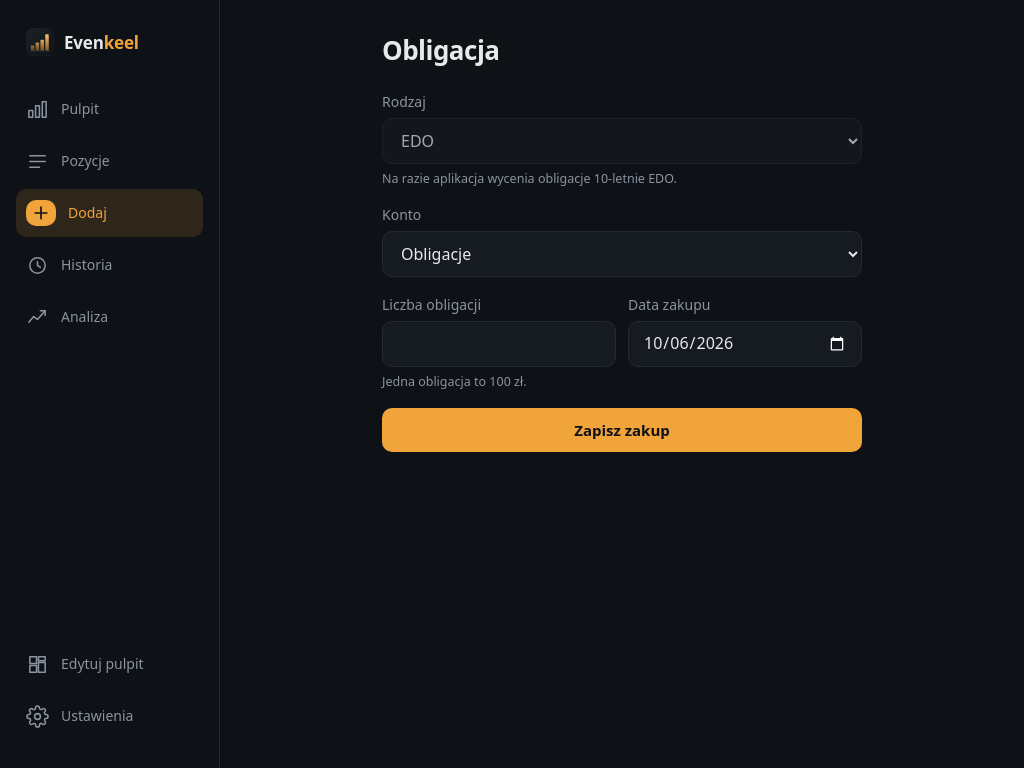
Test: bond purchase form › wants a whole number of bonds
In the field labelled "Liczba obligacji": x=499, y=344 [382,321,616,367], type "2,5"
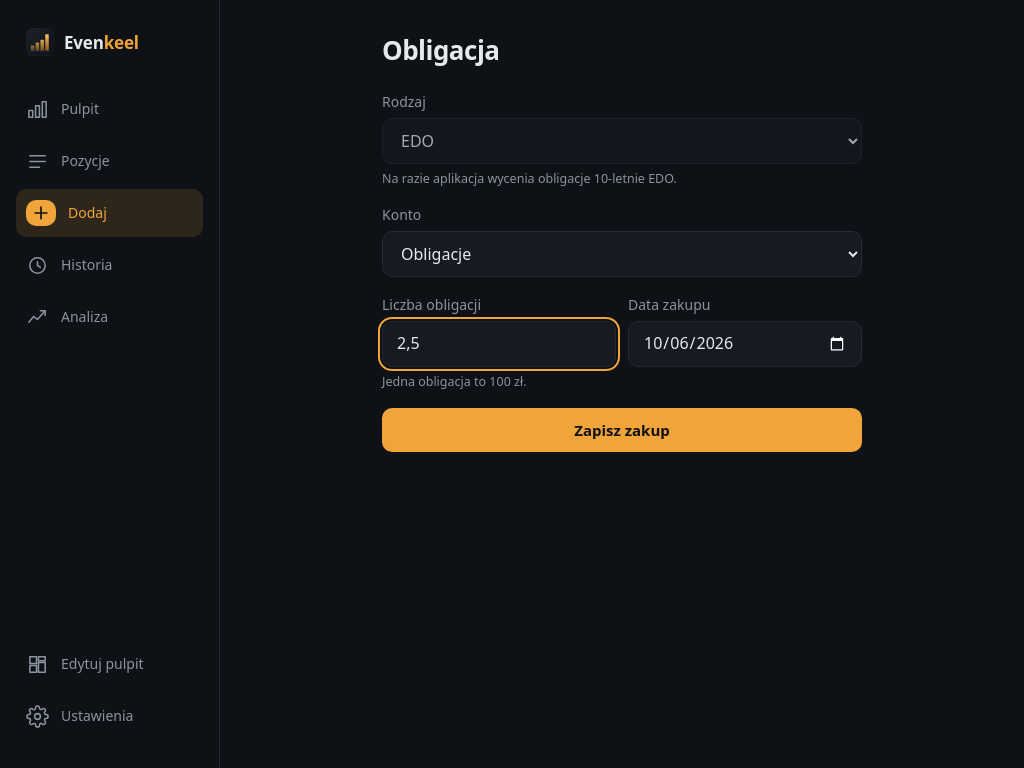
Click the button "Zapisz zakup": x=622, y=430 [382,408,862,452]
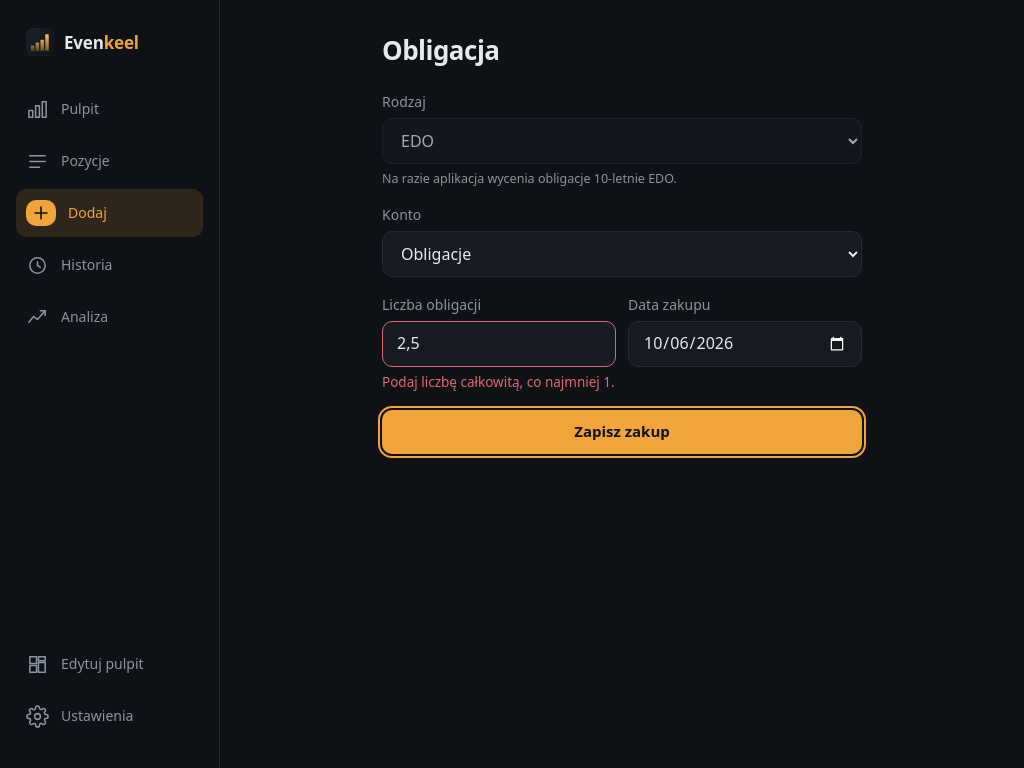
Check: the text "Podaj liczbę całkowitą, co najmniej 1." is shown, box [382,373,616,392]
